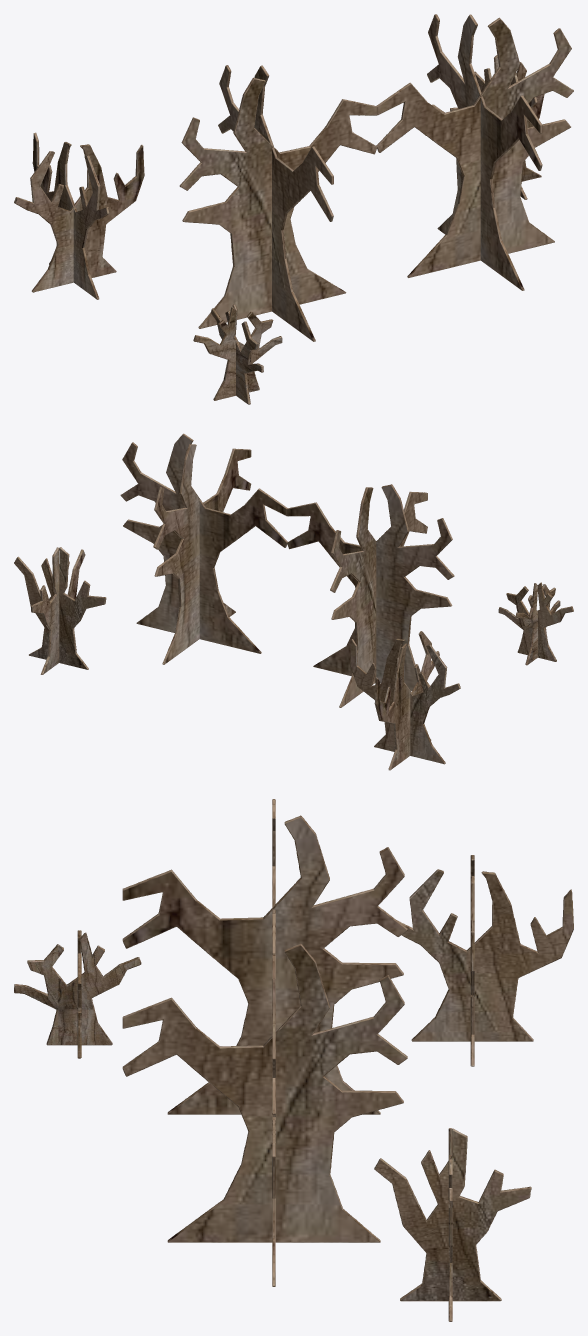
File: trees.glb
3 views of the same model, one above another, from view 1: azimuth 30°, elevation 25°; view 2: azimuth 150°, elevation 25°; view 3: azimuth 270°, elevation 25° (orthographic). The views are drawn at different scales.
Parts seen in each view (by area): view 1: Node; view 2: Node; view 3: Node.
Part boxes in pixels (left/top/right/bottom): Node: left=14, top=14, right=573, bottom=404; Node: left=14, top=433, right=573, bottom=770; Node: left=14, top=799, right=573, bottom=1321.
Size of the model in its own units: 716 by 303 by 516.
1 material, 1 textured.
